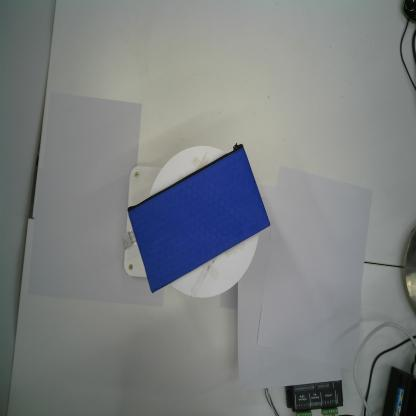Stationery: (126, 140, 274, 296)
